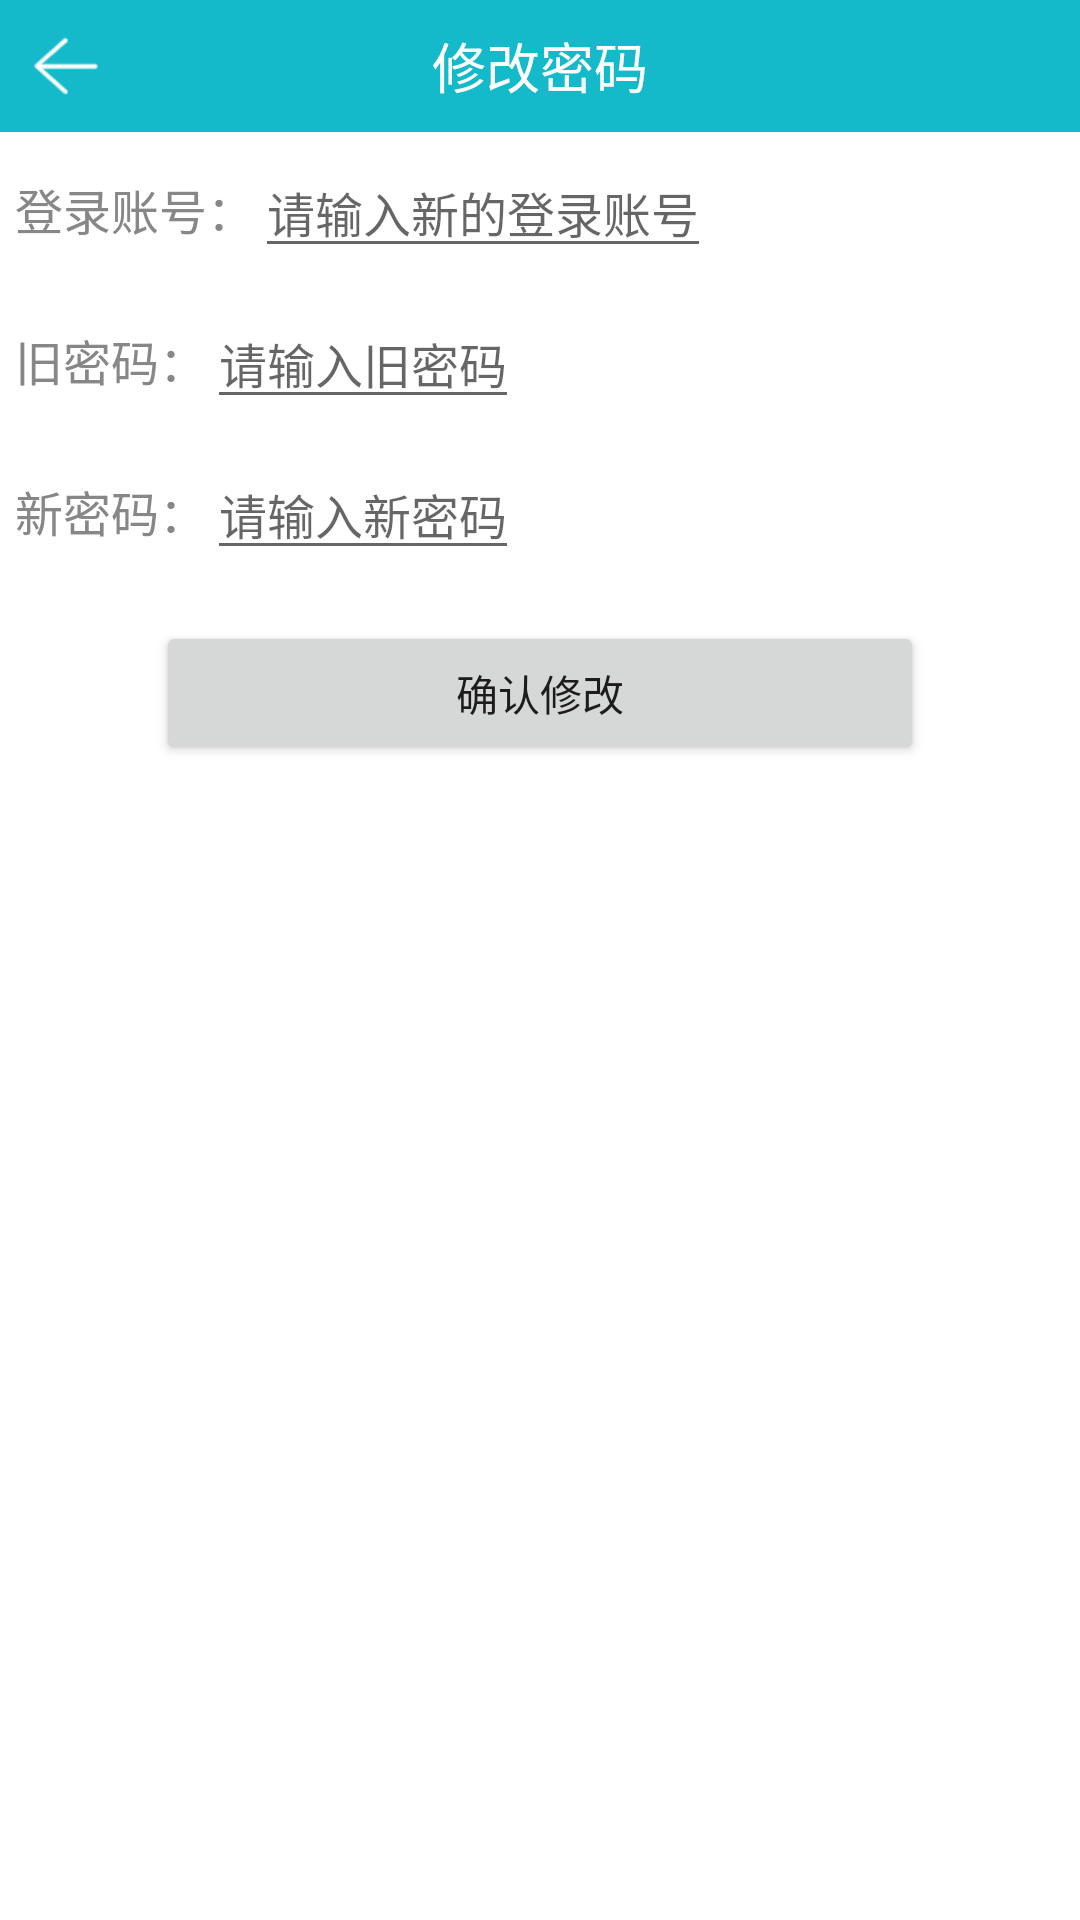

Where icons sit on this 1080 x 1920 app screen, as box(x1, y1, x2, y2):
back: box(34, 37, 98, 95)
